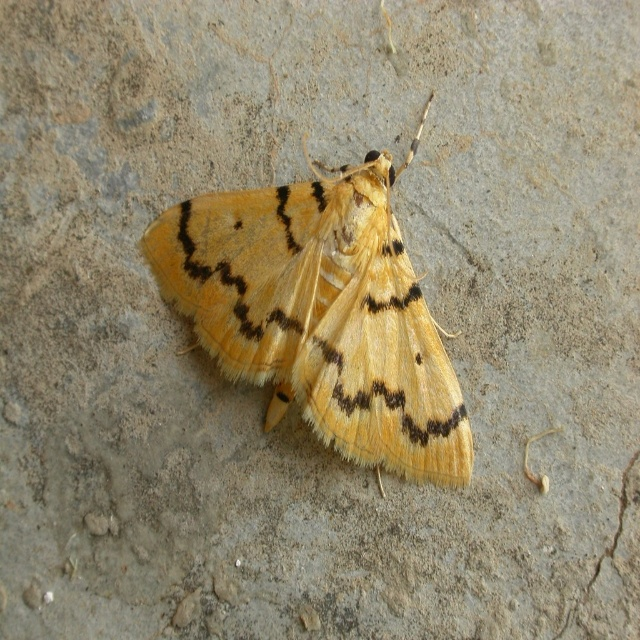Butterfly: (143, 97, 480, 487)
